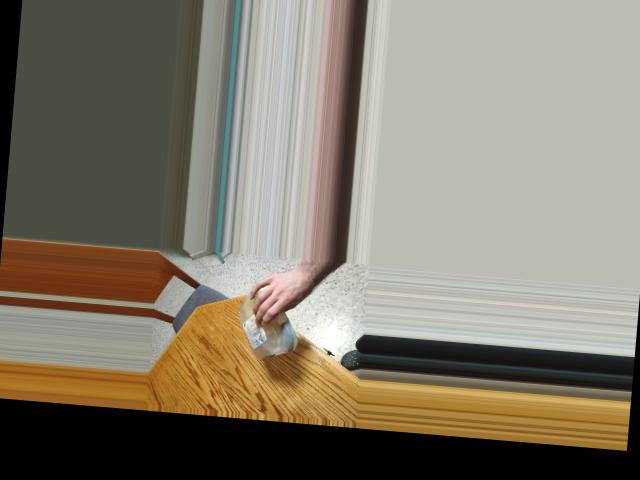cheese: (238, 293, 284, 354)
